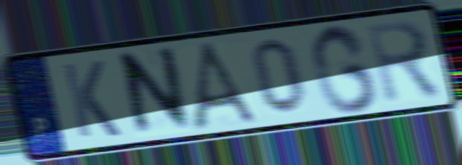0: (250, 35, 311, 118)
A: (189, 38, 266, 131)
G: (308, 21, 382, 117)
K: (58, 58, 124, 141)
N: (119, 43, 194, 142)
R: (363, 17, 446, 108)
